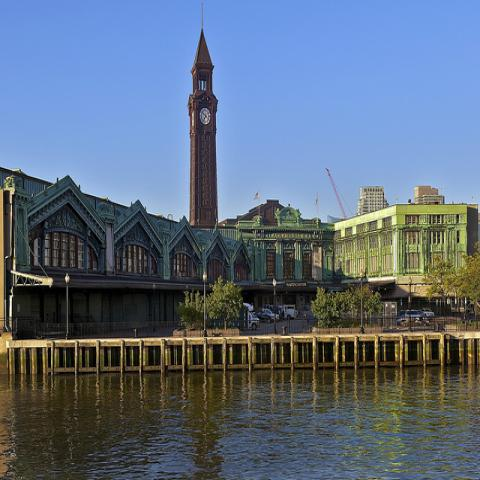car: (284, 304, 298, 318), (398, 310, 422, 317), (262, 309, 274, 322), (256, 312, 269, 323), (422, 308, 434, 317), (396, 317, 404, 326), (276, 310, 281, 320)
truck: (243, 302, 260, 330)
